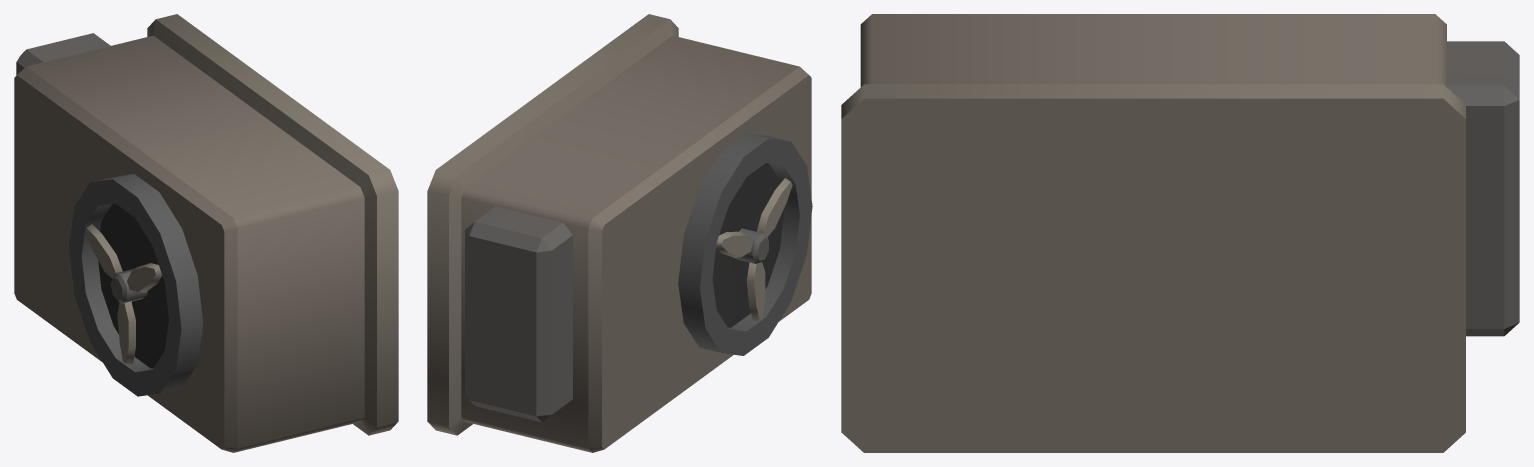
File: VENTS_1_A.gltf
3 views of the same model, side by side, from view 1: azimuth 30°, elevation 25°; view 2: azimuth 150°, elevation 25°; view 3: azimuth 270°, elevation 25° (orthographic). The views are drawn at different scales.
Parts seen in each view (by area): view 1: VENTS_1_A, VENTS_1p_A; view 2: VENTS_1_A, VENTS_1p_A; view 3: VENTS_1_A.
Boxes of the visible parts, <box> form: VENTS_1_A: <box>14,14,398,452</box>; VENTS_1p_A: <box>85,224,162,364</box>; VENTS_1_A: <box>427,14,812,452</box>; VENTS_1p_A: <box>716,178,792,320</box>; VENTS_1_A: <box>841,14,1519,452</box>.
Bounding box in the file's own units: 0.5235 × 0.6712 × 1.16.
Materials: 2 (2 with a texture image).
